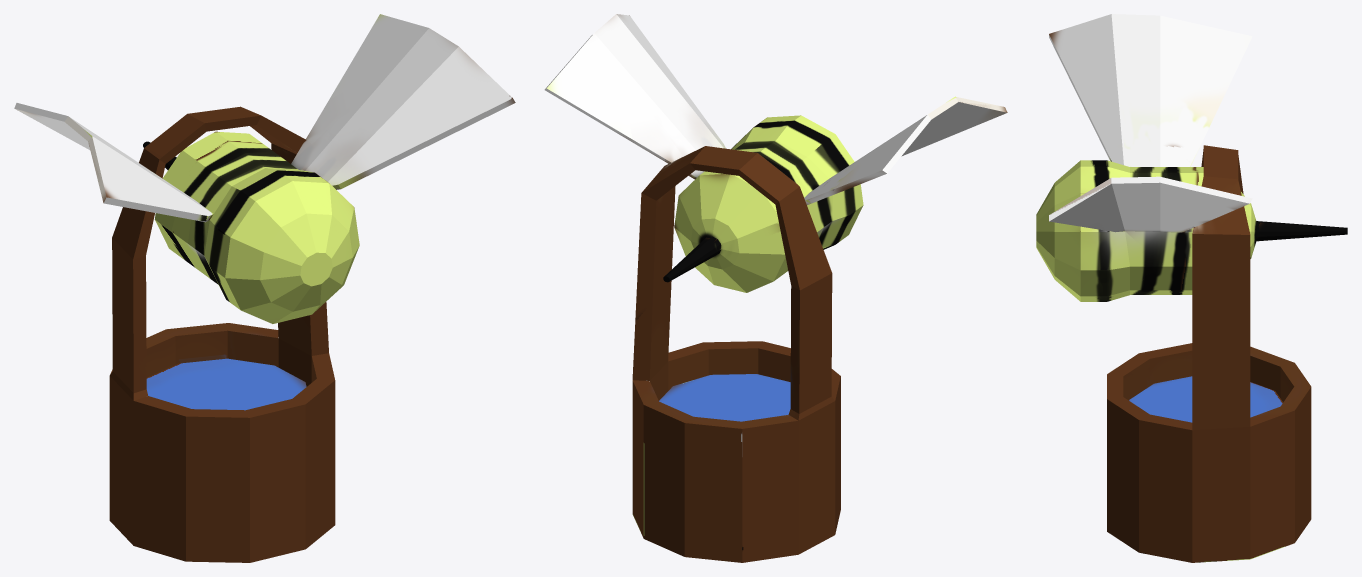
The model's file is Bee.fbx.
The picture shows the model from 3 angles, left to right: view 1: azimuth 30°, elevation 25°; view 2: azimuth 150°, elevation 25°; view 3: azimuth 270°, elevation 25°; orthographic projection. The views are drawn at different scales.
Parts seen in each view (by area): view 1: Cylinder; view 2: Cylinder; view 3: Cylinder.
Part boxes in pixels (left/top/right/bottom): Cylinder: left=14, top=14, right=515, bottom=562; Cylinder: left=544, top=14, right=1007, bottom=562; Cylinder: left=1036, top=14, right=1347, bottom=562.
Bounding box in the file's own units: 676 × 726 × 483.
Materials: 1 (1 with a texture image).
